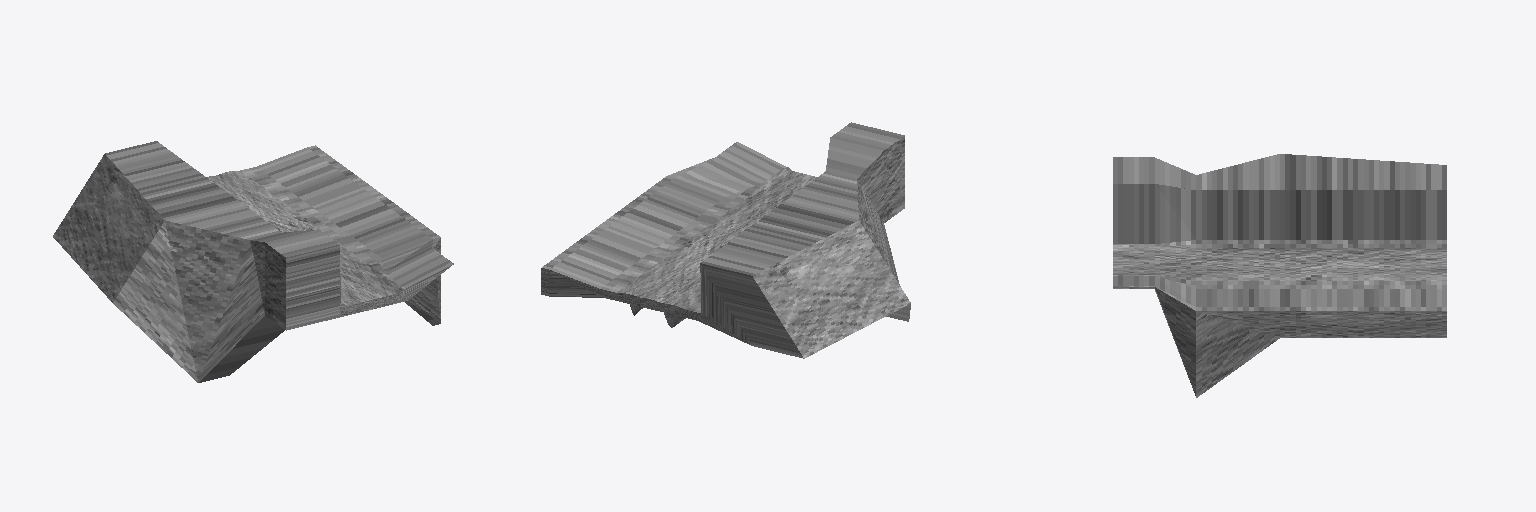
The picture shows the model from 3 angles: view 1: azimuth 30°, elevation 25°; view 2: azimuth 150°, elevation 25°; view 3: azimuth 270°, elevation 25°; orthographic projection.
Parts seen in each view (by area): view 1: 立方体; view 2: 立方体; view 3: 立方体.
Boxes of the visible parts, box(x1,y1,x2,y2) form: 立方体: box(53, 141, 453, 382); 立方体: box(541, 122, 910, 358); 立方体: box(1113, 154, 1446, 397).
Size of the model in its own units: 1029 by 497 by 1040.
1 materials, 1 textured.